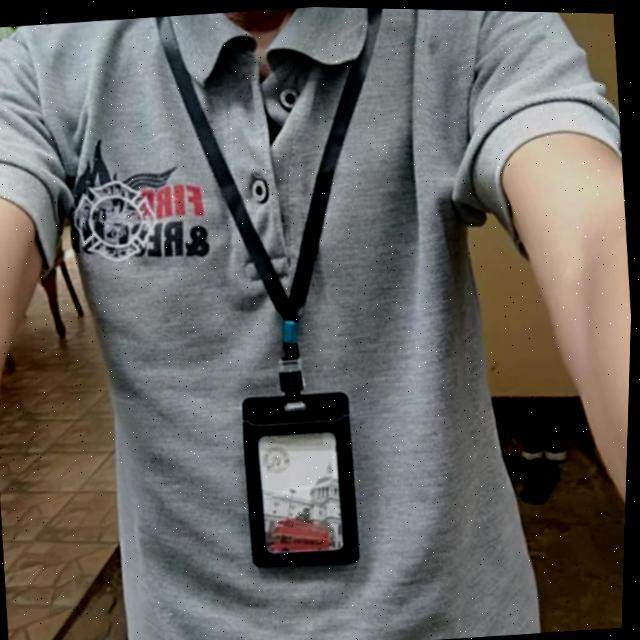id_card: (145, 3, 417, 586)
